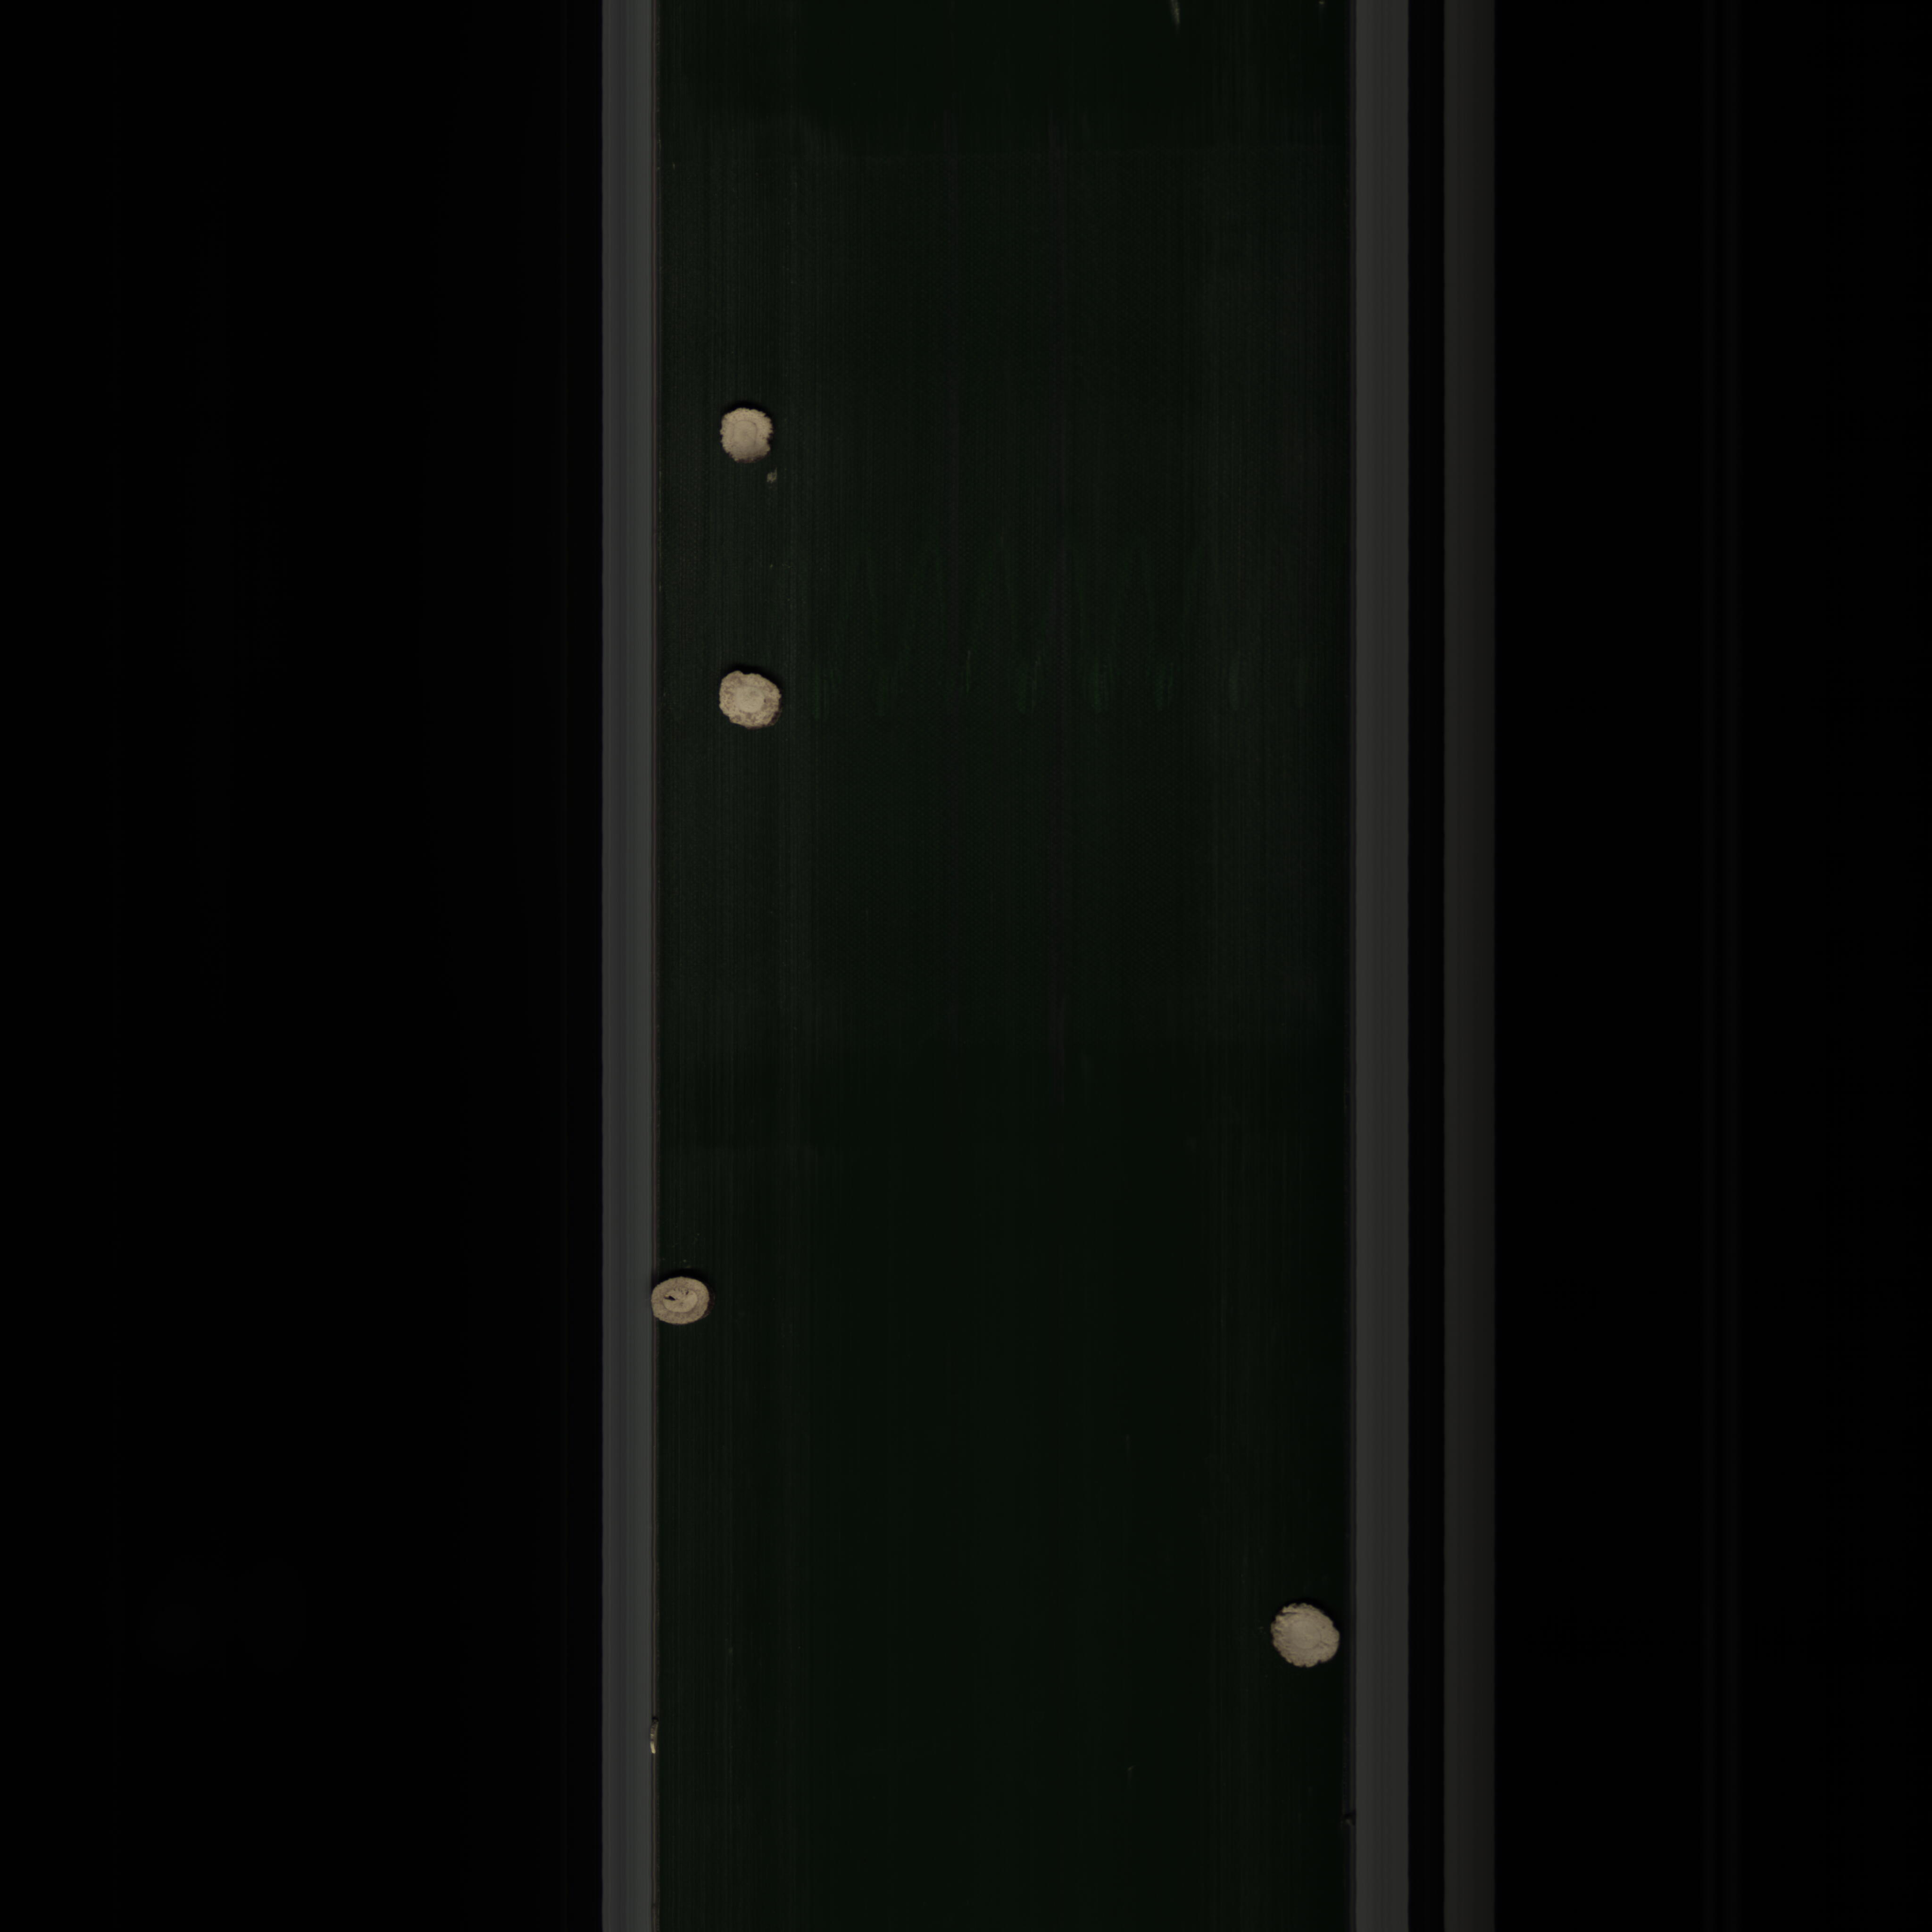hole: (649, 1276, 715, 1334)
